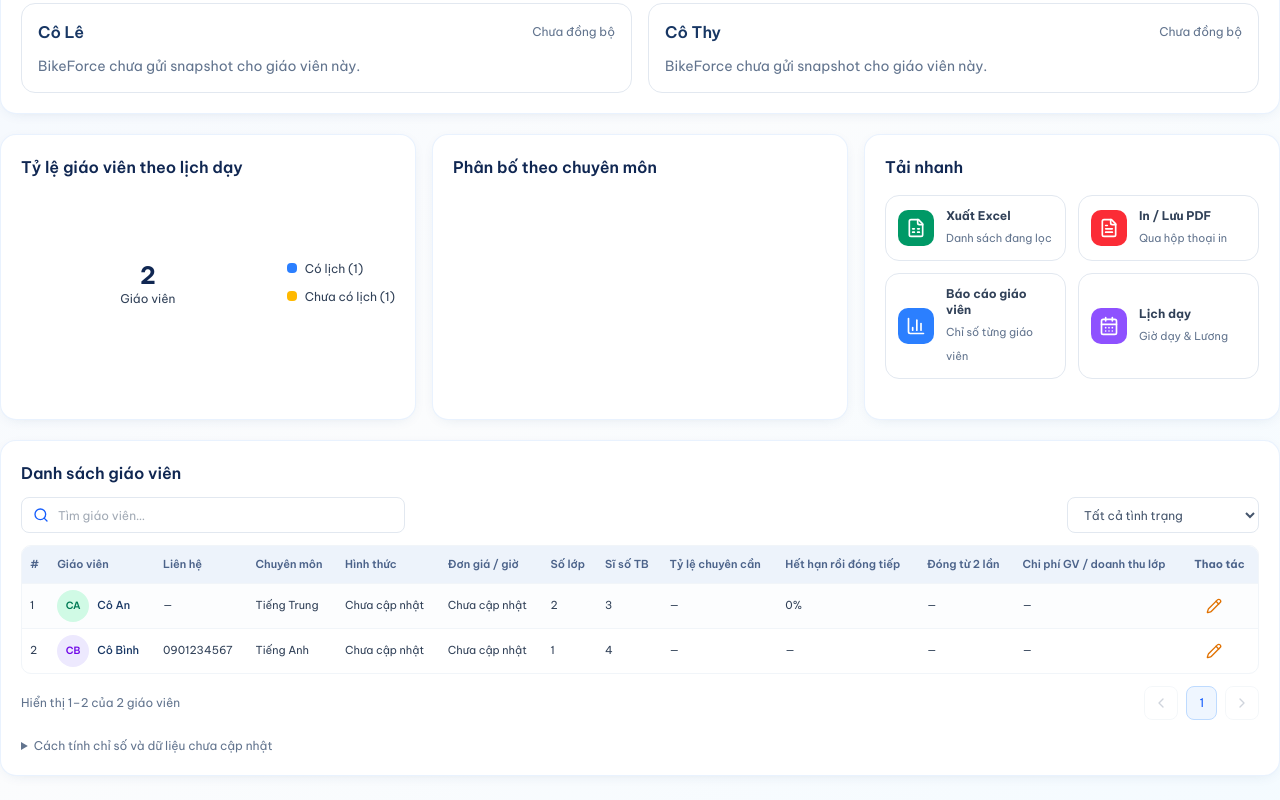
B2C teacher dashboard › filters teaching status by the selected month and keeps missing metrics unknown
(page scrolled)
Select "Có lịch dạy trong tháng" in the dropdown named "Lọc tình trạng lịch dạy": (1163, 515) x1=1067 y1=497 x2=1259 y2=533
(page scrolled)
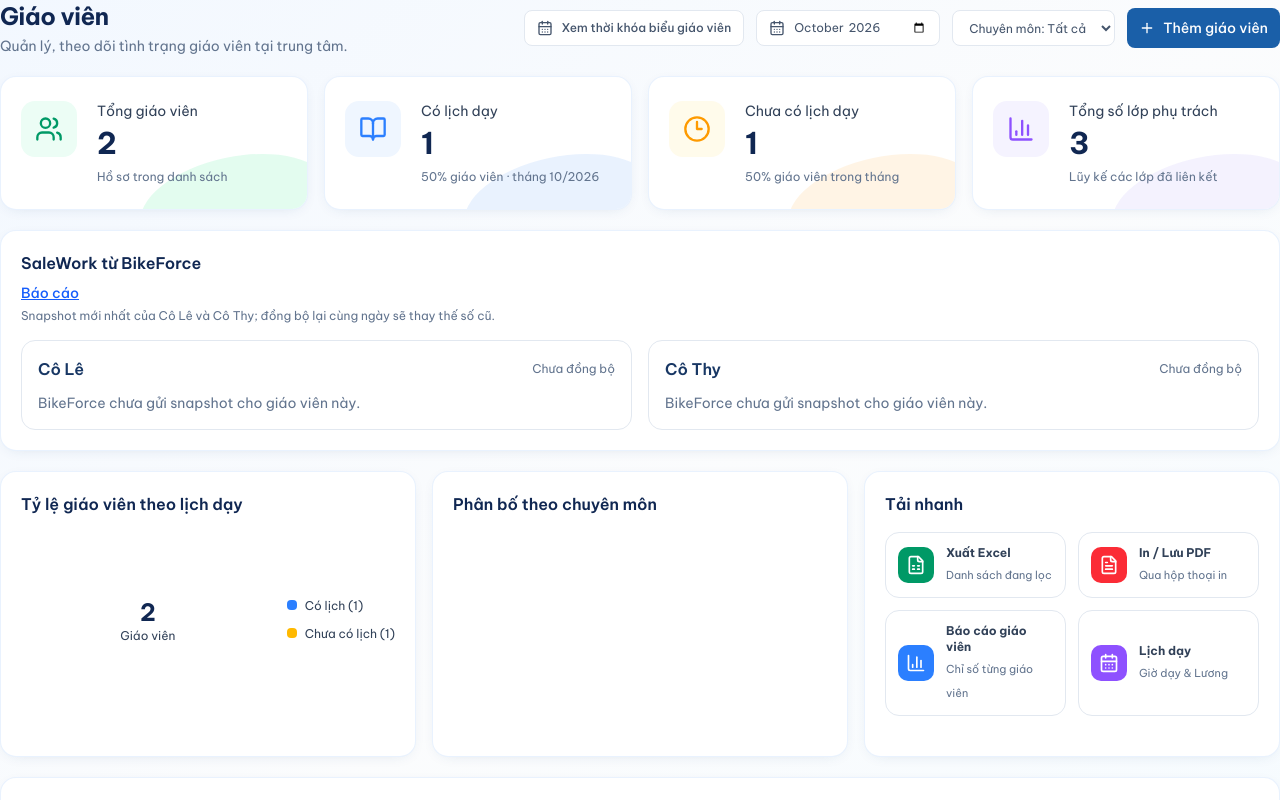
Check: the text "Cô Bình" is gone
Replace the text in the field named "Tháng theo dõi lịch dạy" with "2026-09": (860, 28) x1=793 y1=20 x2=927 y2=36
(page scrolled)
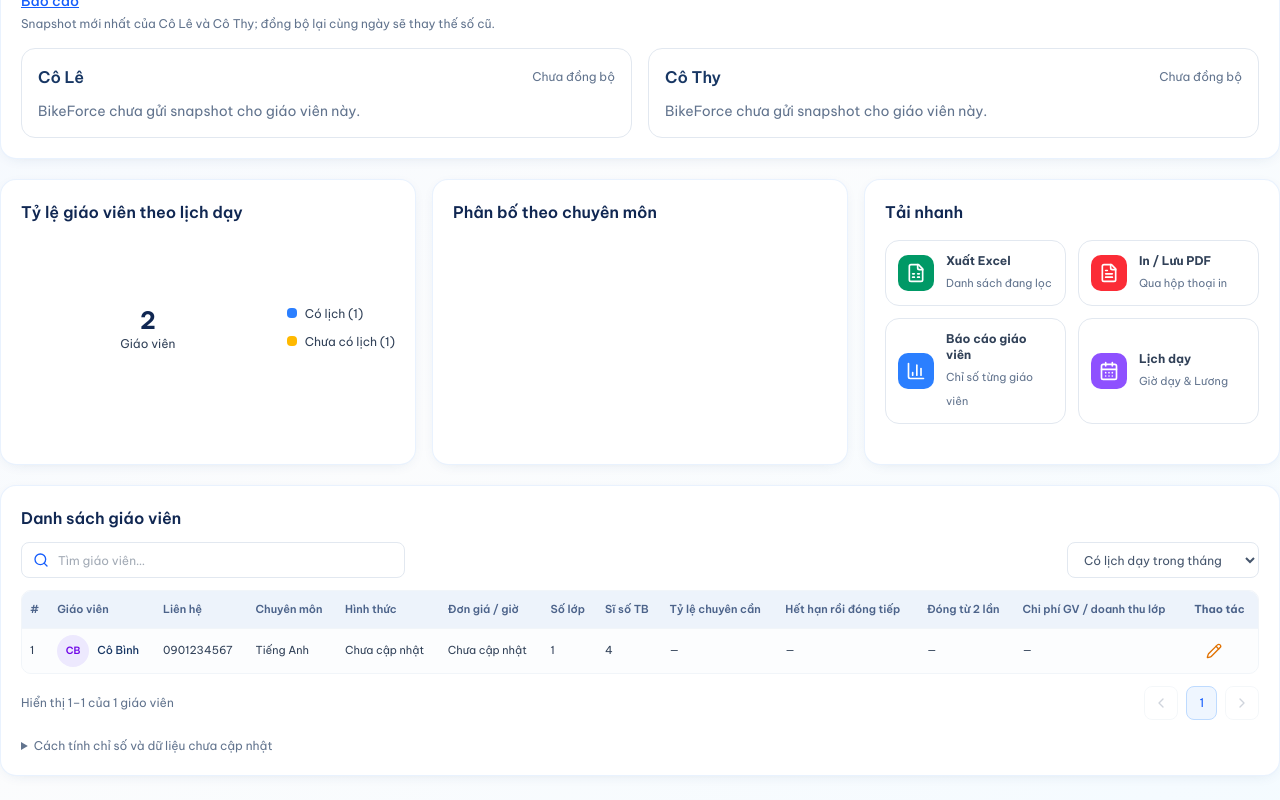
Check: the text "Cô An" is not shown
Check: the text "Cô Bình" is shown, box x1=97 y1=642 x2=139 y2=659
